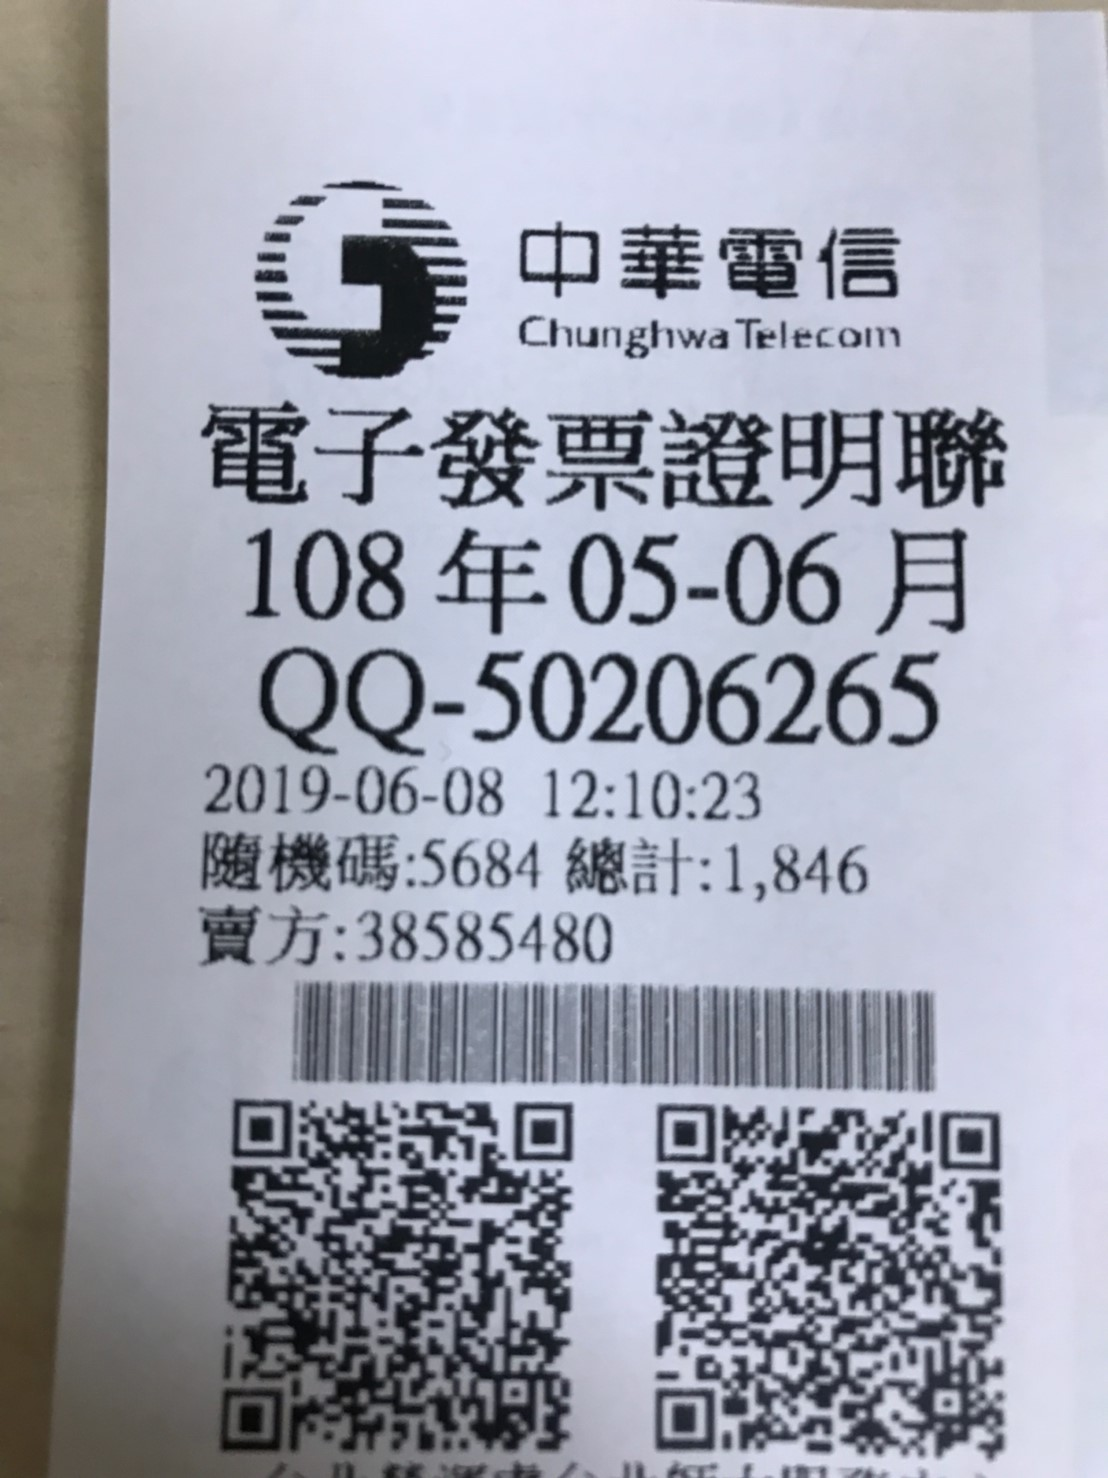Date_New: (242, 521, 975, 644)
Number_New: (469, 649, 952, 748)
